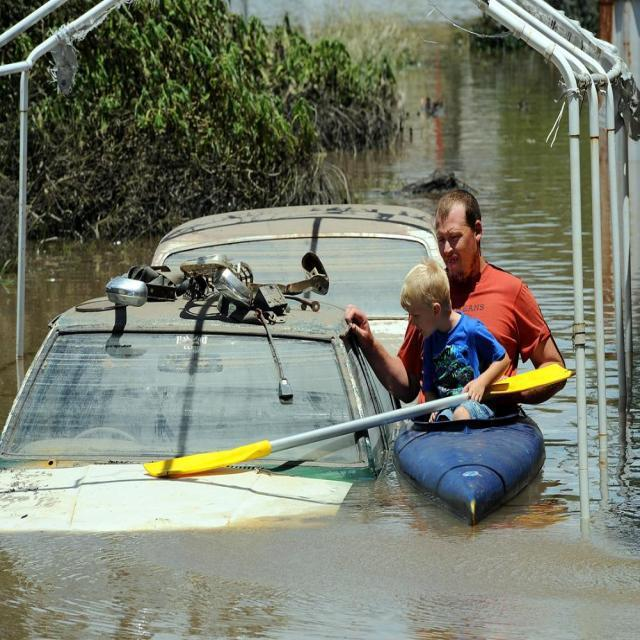water: (0, 377, 639, 637), (230, 1, 573, 371)
